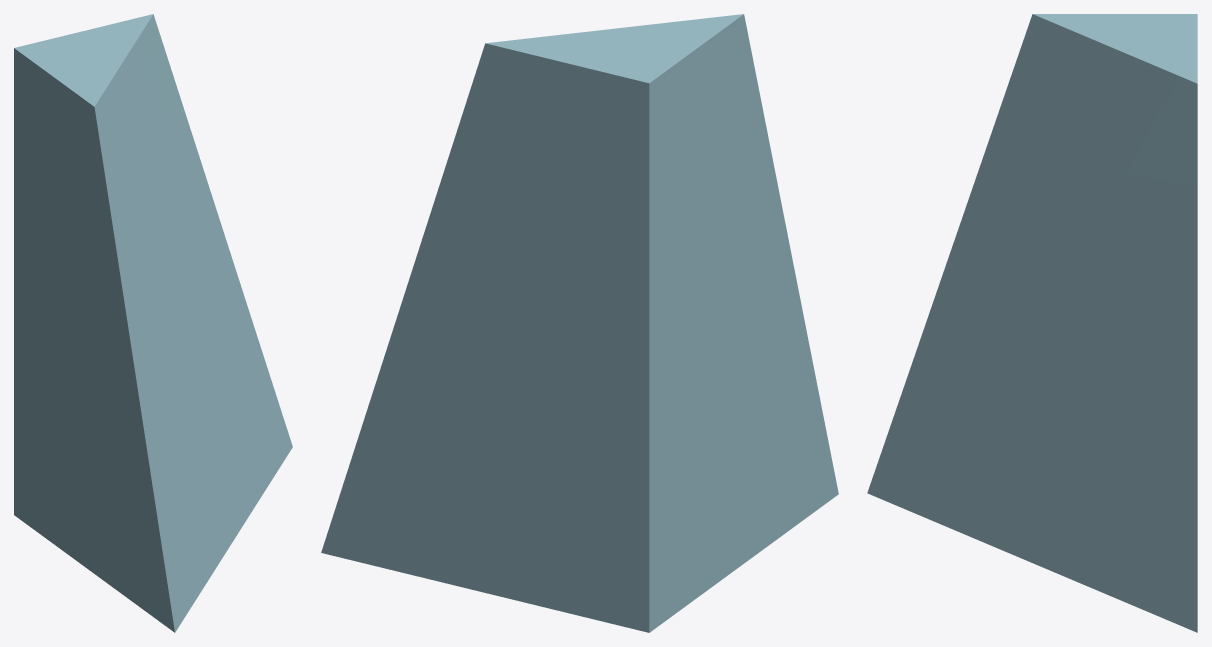
The model's file is Terrain_Modular_Tiles_Ice_Cliff_Side_Outer_Corner_01.fbx.
3 renders of one model, left to right at view 1: azimuth 30°, elevation 25°; view 2: azimuth 150°, elevation 25°; view 3: azimuth 270°, elevation 25°, orthographic. The views are drawn at different scales.
Parts seen in each view (by area): view 1: Terrain_Modular_Tiles_Ice_Cliff_Side_Outer_Corner_01; view 2: Terrain_Modular_Tiles_Ice_Cliff_Side_Outer_Corner_01; view 3: Terrain_Modular_Tiles_Ice_Cliff_Side_Outer_Corner_01.
Part boxes in pixels (box(x1,y1,x2,y2)): Terrain_Modular_Tiles_Ice_Cliff_Side_Outer_Corner_01: box(14, 14, 292, 632); Terrain_Modular_Tiles_Ice_Cliff_Side_Outer_Corner_01: box(321, 14, 838, 632); Terrain_Modular_Tiles_Ice_Cliff_Side_Outer_Corner_01: box(867, 14, 1197, 632).
Size of the model in its own units: 1500 by 2400 by 1500.
